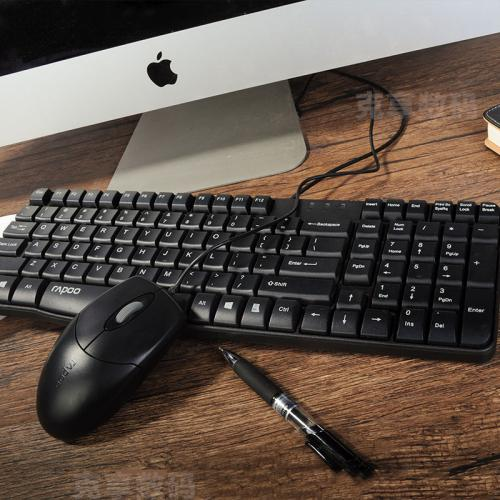keyboard: (3, 187, 496, 364)
mouse: (36, 276, 188, 445)
